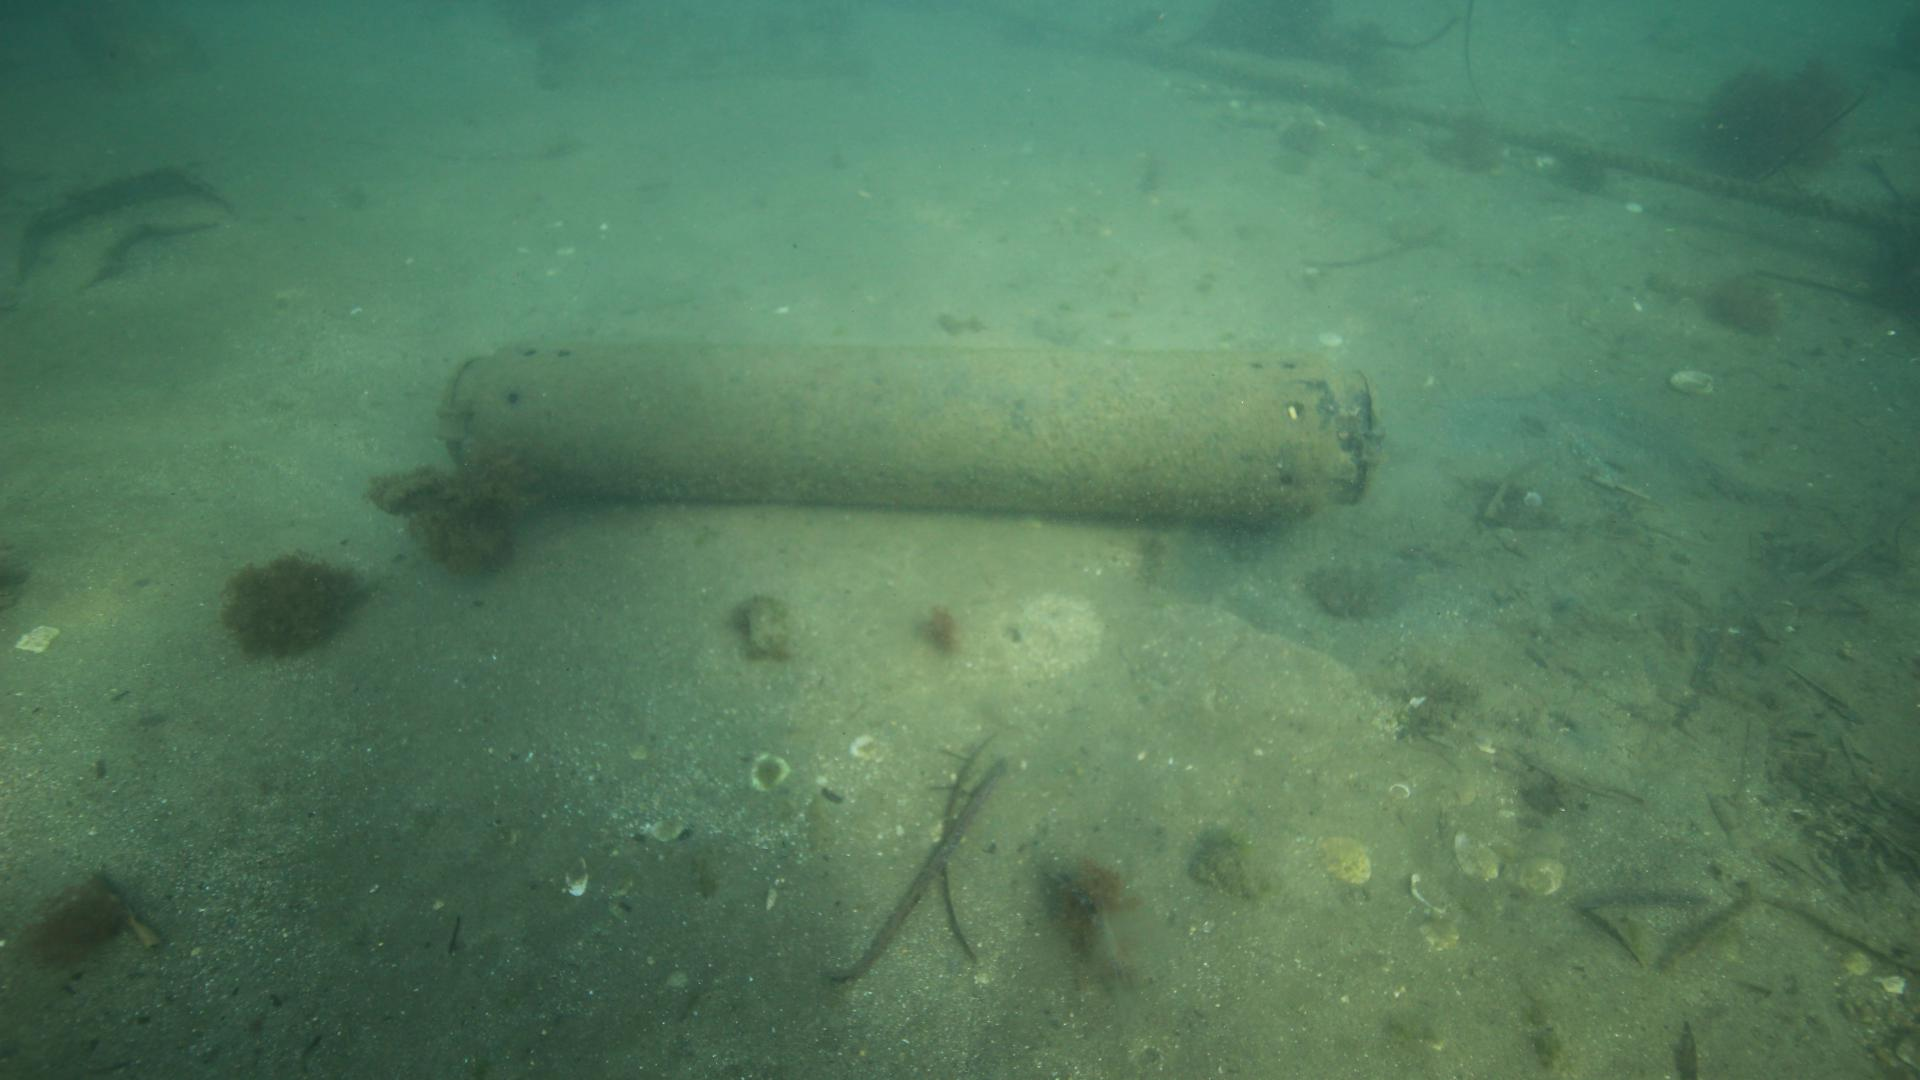eel fish trap: (436, 340, 1379, 521)
